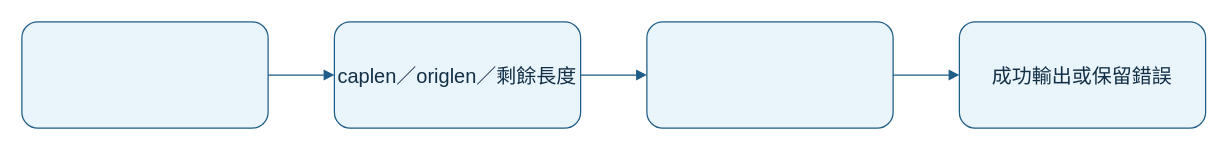
Some shapes in this 1228 by 150 pixel diagram are drawn without their labels. Each missing label, with the box of its shape:
Ethernet／VLAN／IPv4／UDP: (646, 21, 893, 128)
Magic／snaplen／鏈路型別: (21, 21, 268, 128)
